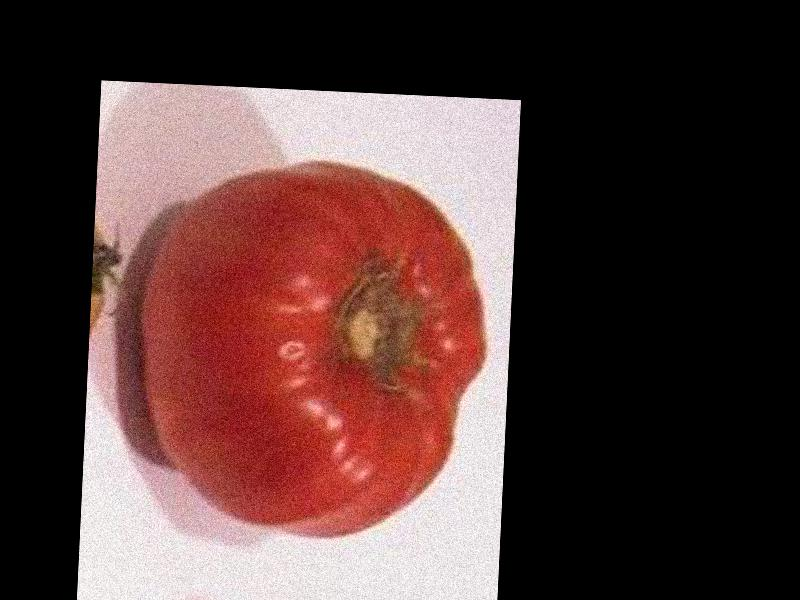Tomato: (137, 155, 492, 540)
